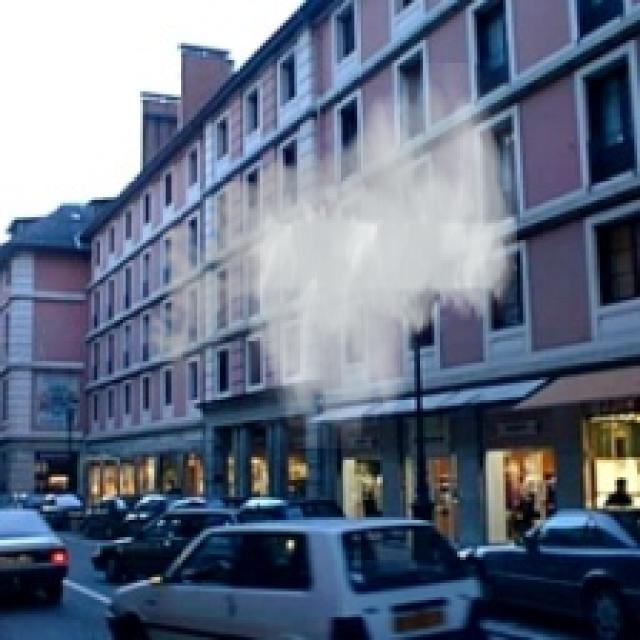smoke: (137, 63, 517, 448)
